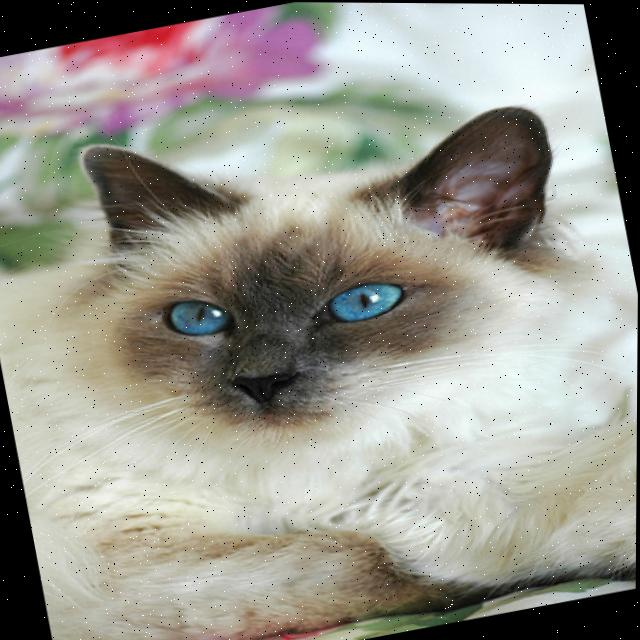Birman: (0, 44, 640, 640)
